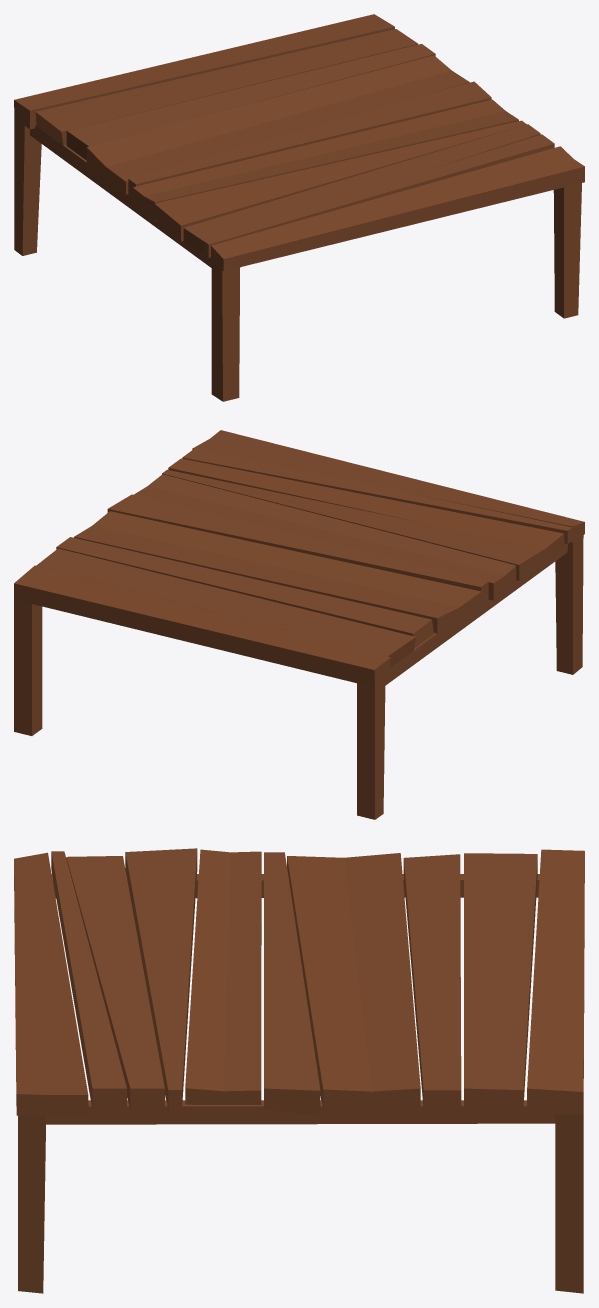
Rendered from tableplank01.gltf.
The picture shows the model from 3 angles, top to bottom: view 1: azimuth 30°, elevation 25°; view 2: azimuth 150°, elevation 25°; view 3: azimuth 270°, elevation 25°; orthographic projection. The views are drawn at different scales.
Parts seen in each view (by area): view 1: Cube; view 2: Cube; view 3: Cube.
Boxes of the visible parts, x1,y1,x2,y2 form: Cube: (14,14,584,401); Cube: (14,430,584,819); Cube: (14,848,584,1293).
Bounding box in the file's own units: 2.03 × 0.8001 × 2.02.
Materials: 1 (1 with a texture image).
